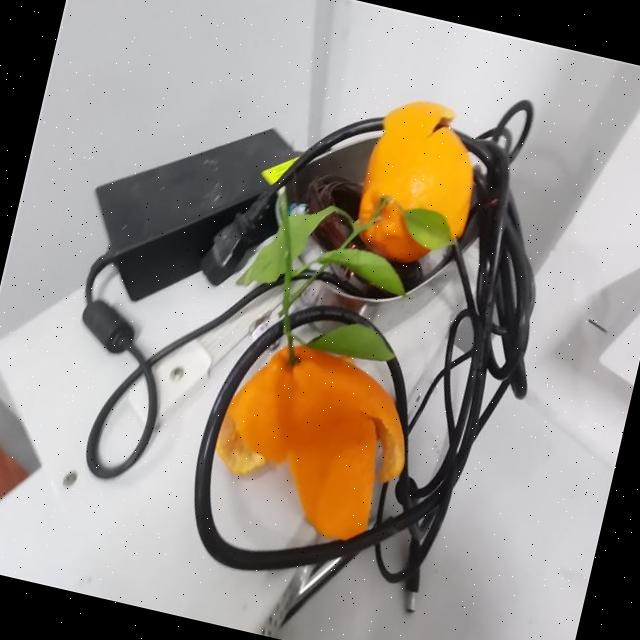orange-peel: (200, 326, 427, 552), (344, 88, 492, 275)
